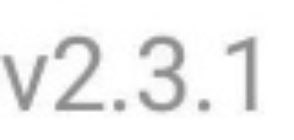TextView: (1, 1, 293, 139)
